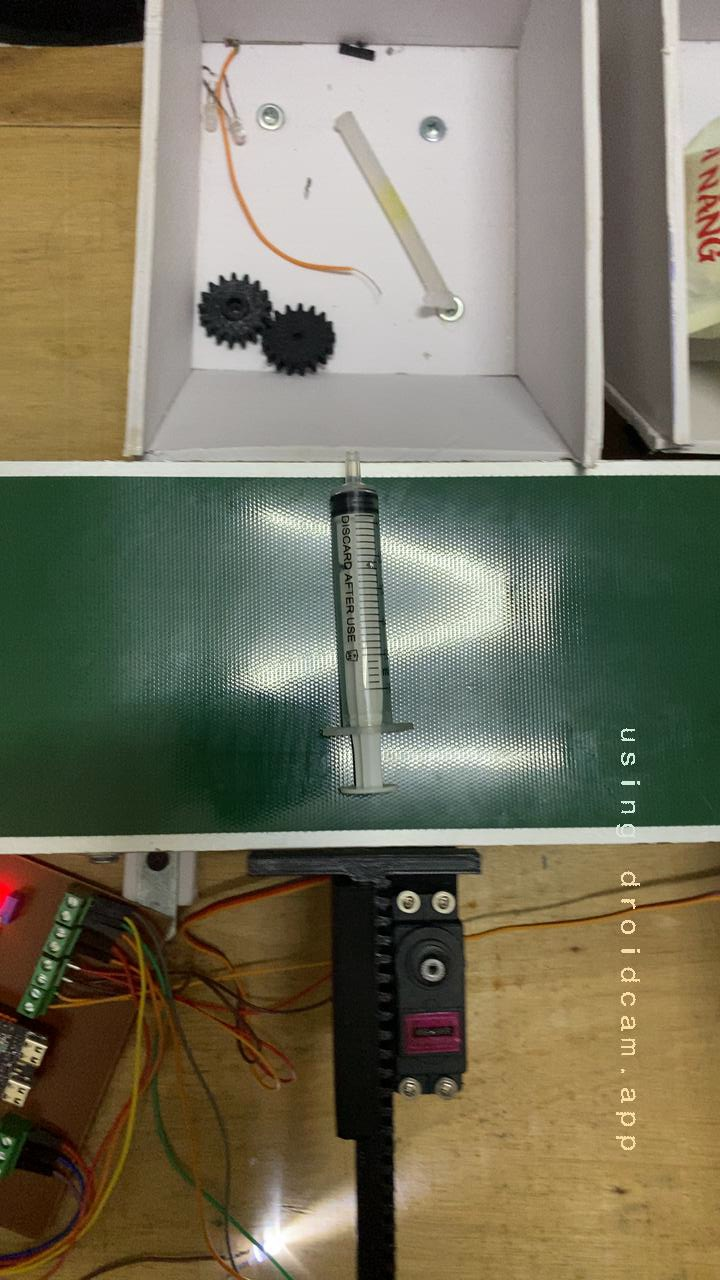syringe: (291, 468, 427, 803)
